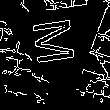M_E: (33, 16, 86, 69)
